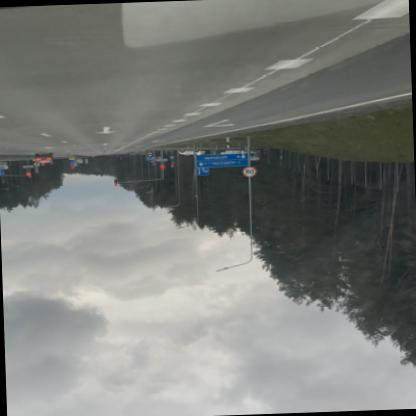speedlimit: (242, 168, 254, 178)
